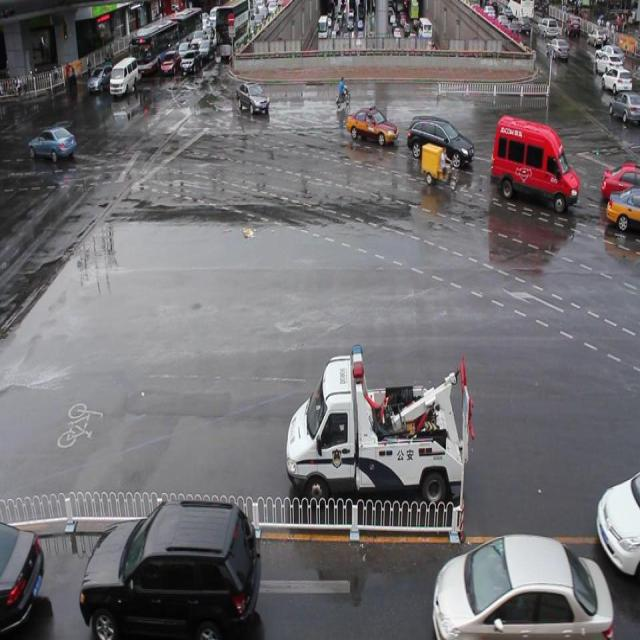bus: (287, 344, 475, 513)
car: (84, 498, 261, 640), (432, 531, 612, 640), (0, 516, 44, 640), (596, 472, 640, 574), (408, 116, 474, 170), (347, 105, 398, 145), (602, 159, 640, 202), (606, 186, 640, 231), (236, 80, 270, 114)
truck: (490, 113, 580, 213)
